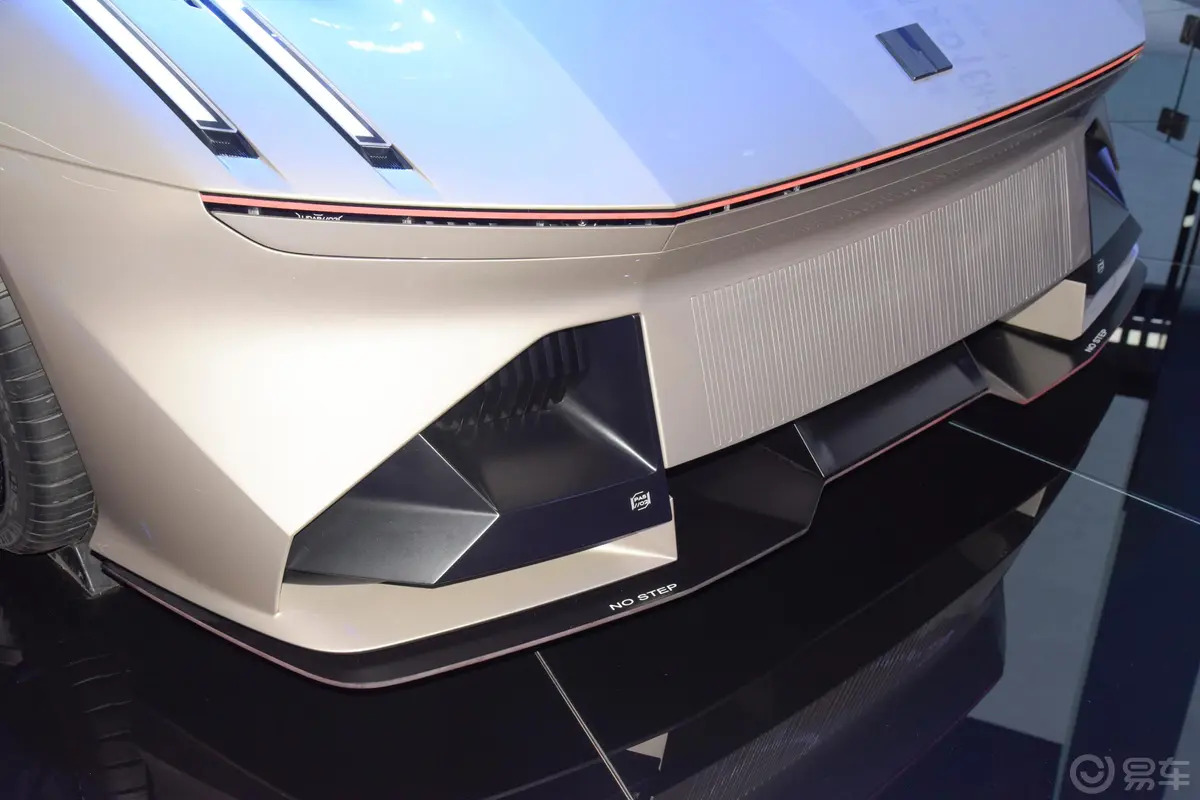LINK&CO: (876, 23, 952, 80)
